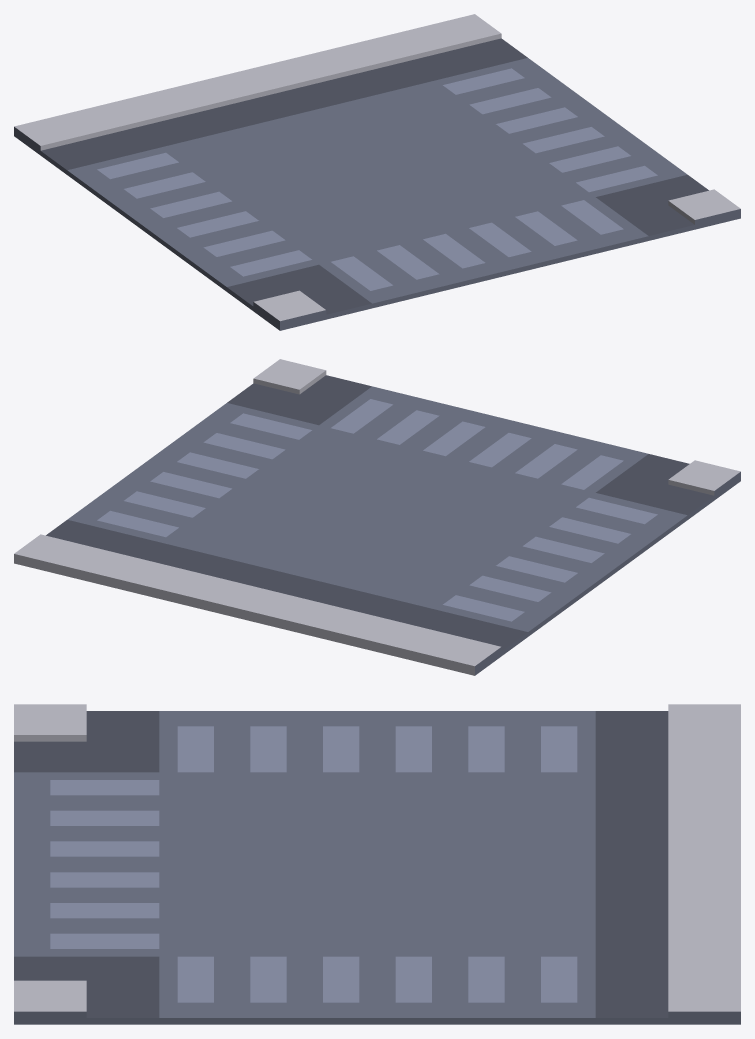
File: road_intersectionPath.fbx
3 views of the same model, one above another, from view 1: azimuth 30°, elevation 25°; view 2: azimuth 150°, elevation 25°; view 3: azimuth 270°, elevation 25° (orthographic). The views are drawn at different scales.
Visible parts, largest first — view 1: road_intersectionPath; view 2: road_intersectionPath; view 3: road_intersectionPath.
Part boxes in pixels (left/top/right/bottom): road_intersectionPath: left=14, top=14, right=740, bottom=330; road_intersectionPath: left=14, top=359, right=740, bottom=675; road_intersectionPath: left=14, top=704, right=740, bottom=1024.
Bounding box in the file's own units: 10 × 0.2 × 10.
